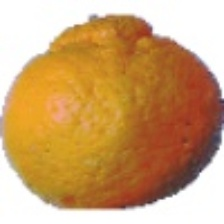tangerine: (23, 41, 160, 206)
